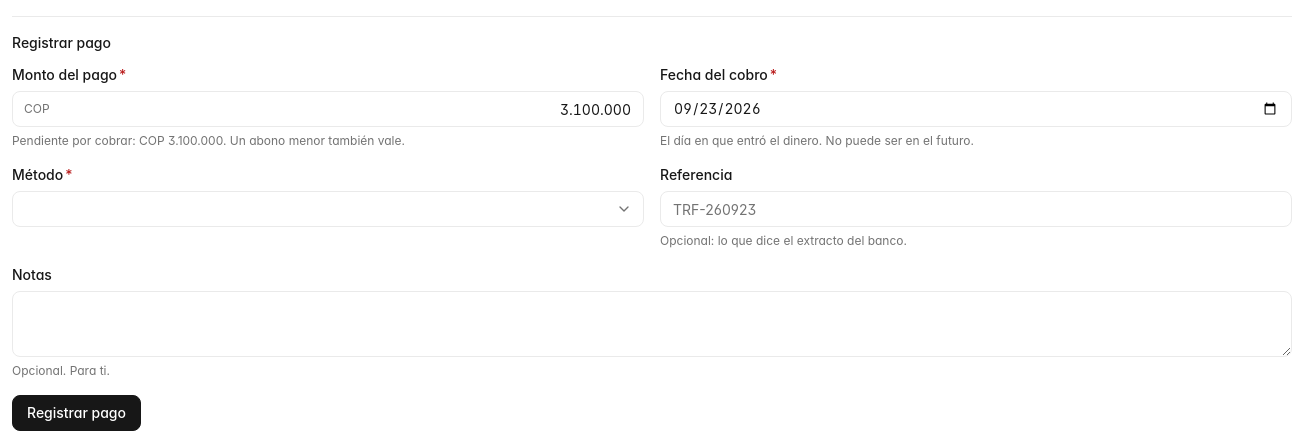
Test: RegistrarPagoForm › los errores del servidor se pintan en español, con aria-invalid, y el foco va al primero
Click the button "Registrar pago" at (76, 413), box [12, 395, 141, 431]
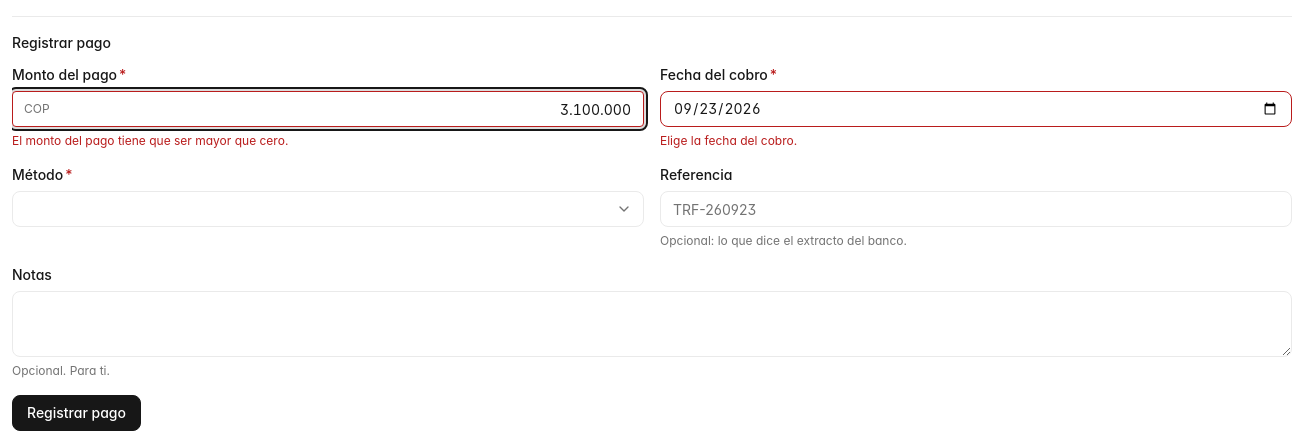
Expected: the number of messages is 2, [12, 133, 288, 148]; [660, 133, 797, 148]
